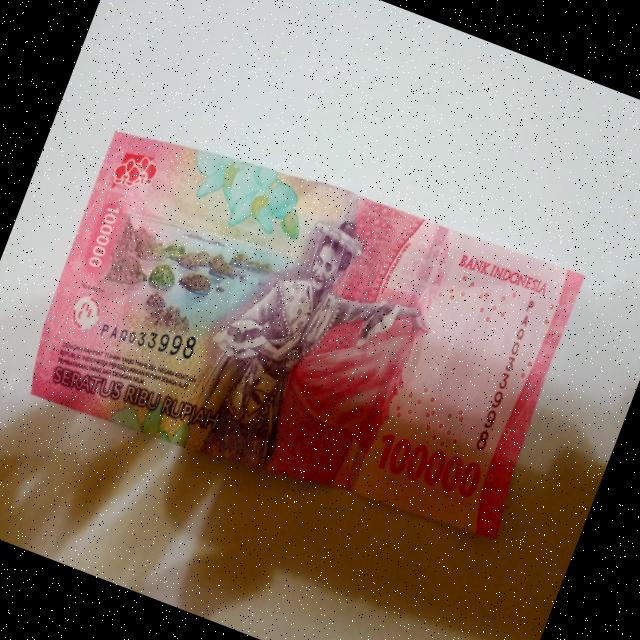100K: (8, 87, 606, 578)
